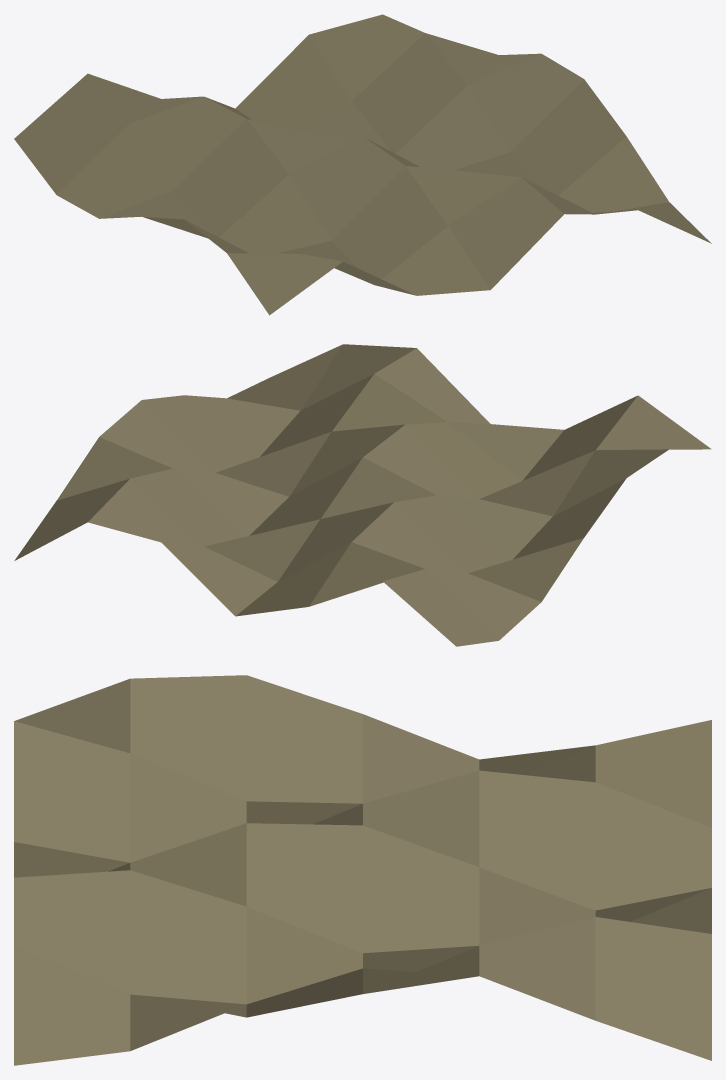
File: Rag.fbx
3 renders of one model, top to bottom at view 1: azimuth 30°, elevation 25°; view 2: azimuth 150°, elevation 25°; view 3: azimuth 270°, elevation 25°, orthographic. The views are drawn at different scales.
Visible parts, largest first — view 1: folded rag; view 2: folded rag; view 3: folded rag.
Part boxes in pixels (bbox=[...]): folded rag: bbox=[14, 14, 711, 315]; folded rag: bbox=[14, 344, 711, 646]; folded rag: bbox=[14, 675, 711, 1065].
Bounding box in the file's own units: 15 × 2.4 × 15.
